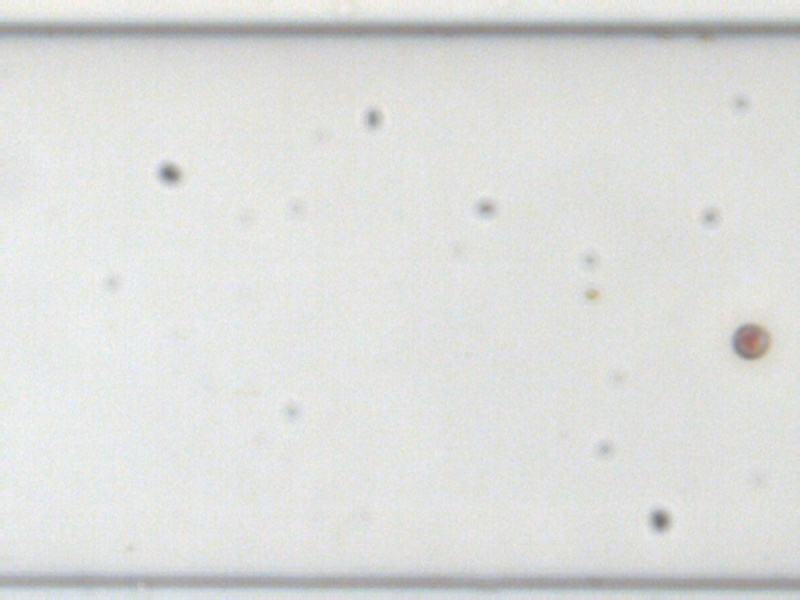Chlorella: (583, 285, 599, 300)
Porphyridium: (728, 320, 771, 363)
